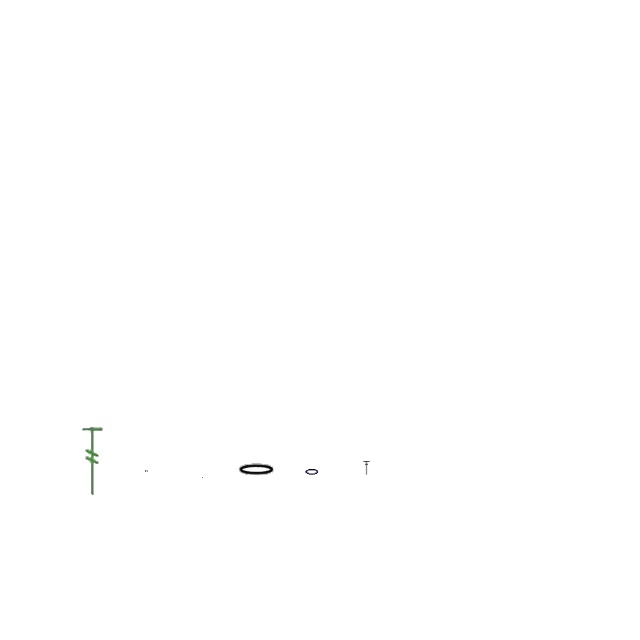chain: (236, 462, 278, 478), (304, 466, 320, 478), (146, 470, 148, 472), (200, 478, 204, 478)
double treble: (364, 461, 370, 475)
fan: (80, 426, 104, 498)
